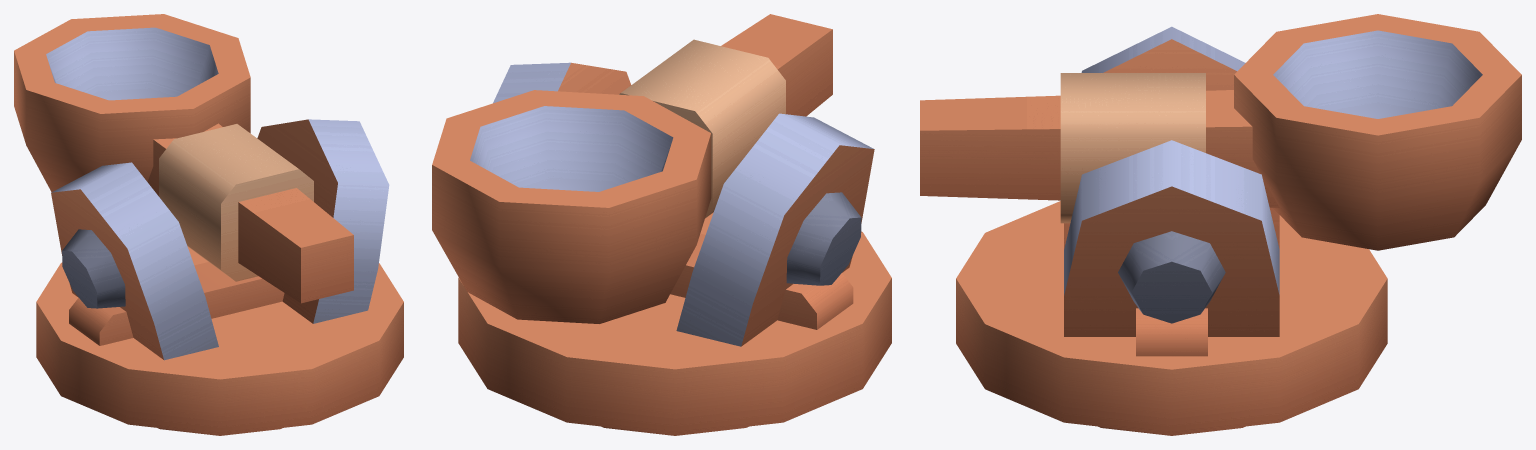
Rendered from tower-defense-kit--weapon-catapult.glb.
3 views of the same model, side by side, from view 1: azimuth 30°, elevation 25°; view 2: azimuth 150°, elevation 25°; view 3: azimuth 270°, elevation 25° (orthographic). The views are drawn at different scales.
Visible parts, largest first — view 1: weapon-catapult, catapult; view 2: weapon-catapult, catapult; view 3: weapon-catapult, catapult.
Boxes of the visible parts, x1,y1,x2,y2 form: weapon-catapult: (36,119,403,435); catapult: (14,14,353,303); weapon-catapult: (458,62,891,435); catapult: (432,14,832,323); weapon-catapult: (956,26,1387,435); catapult: (920,14,1521,250).
Bounding box in the file's own units: 0.6 × 0.4625 × 0.8366.
1 material, 1 textured.
